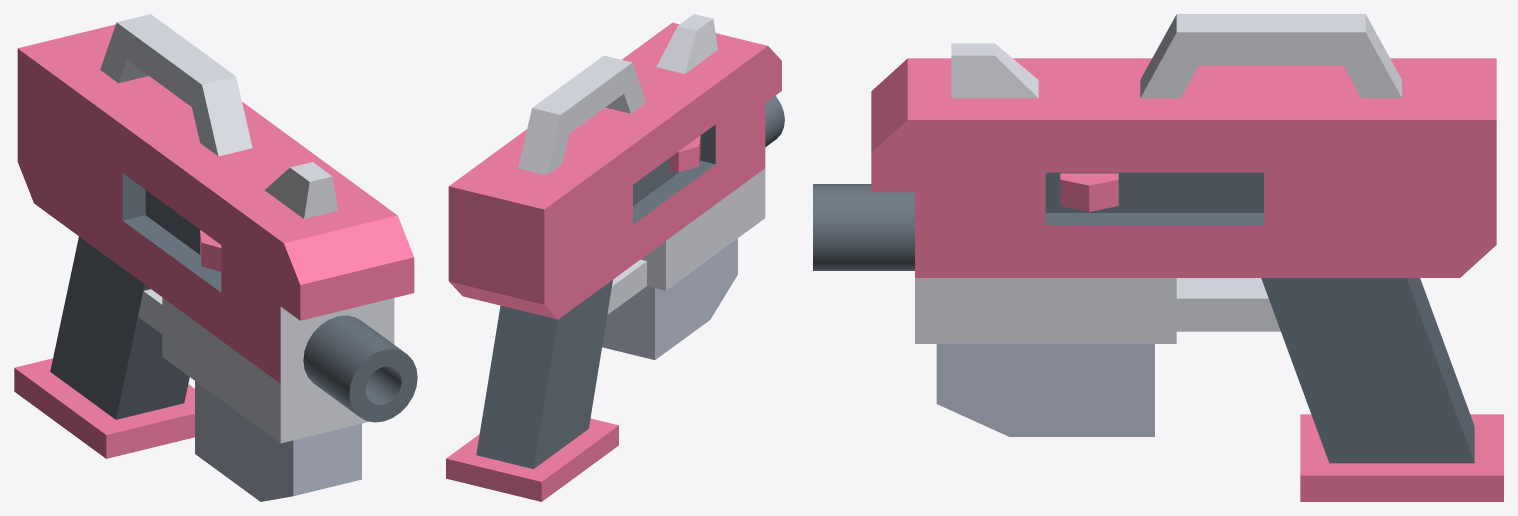
Rendered from blasterC.fbx.
3 views of the same model, side by side, from view 1: azimuth 30°, elevation 25°; view 2: azimuth 150°, elevation 25°; view 3: azimuth 270°, elevation 25° (orthographic). The views are drawn at different scales.
Visible parts, largest first — view 1: blasterC; view 2: blasterC; view 3: blasterC.
Boxes of the visible parts, x1=… form: blasterC: x1=14, y1=14, x2=417, y2=501; blasterC: x1=446, y1=14, x2=784, y2=501; blasterC: x1=813, y1=14, x2=1503, y2=501.
Size of the model in its own units: 47.5 by 10 by 34.
